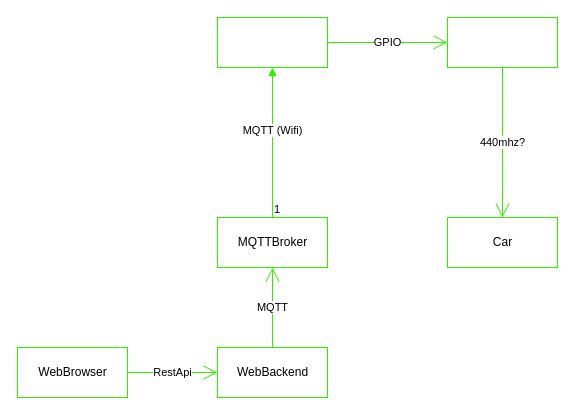
Some shapes in this 575 by 415 pixel diagram are drawn without their labels. Here are the shapes that lost their labels. From the top down, the centre of each, then its label:
the point at 272,42: TruckMcu
the point at 502,42: CarRemote
